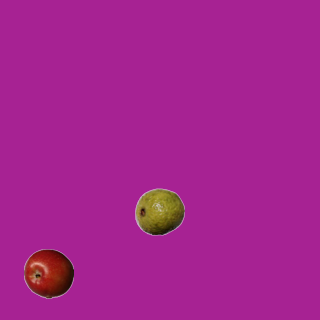Apple Braeburn: (23, 248, 73, 298)
Guava: (134, 186, 184, 236)
